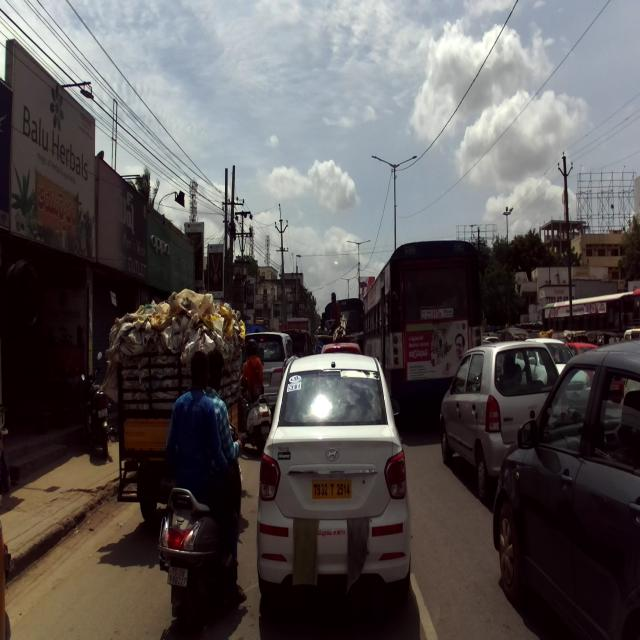autorickshaw: (102, 288, 246, 521)
bus: (359, 238, 482, 430)
car: (492, 338, 640, 640), (255, 351, 411, 601), (439, 340, 560, 501)
motorcycle: (80, 349, 116, 461)
scooter: (158, 422, 246, 637), (237, 374, 271, 454)
